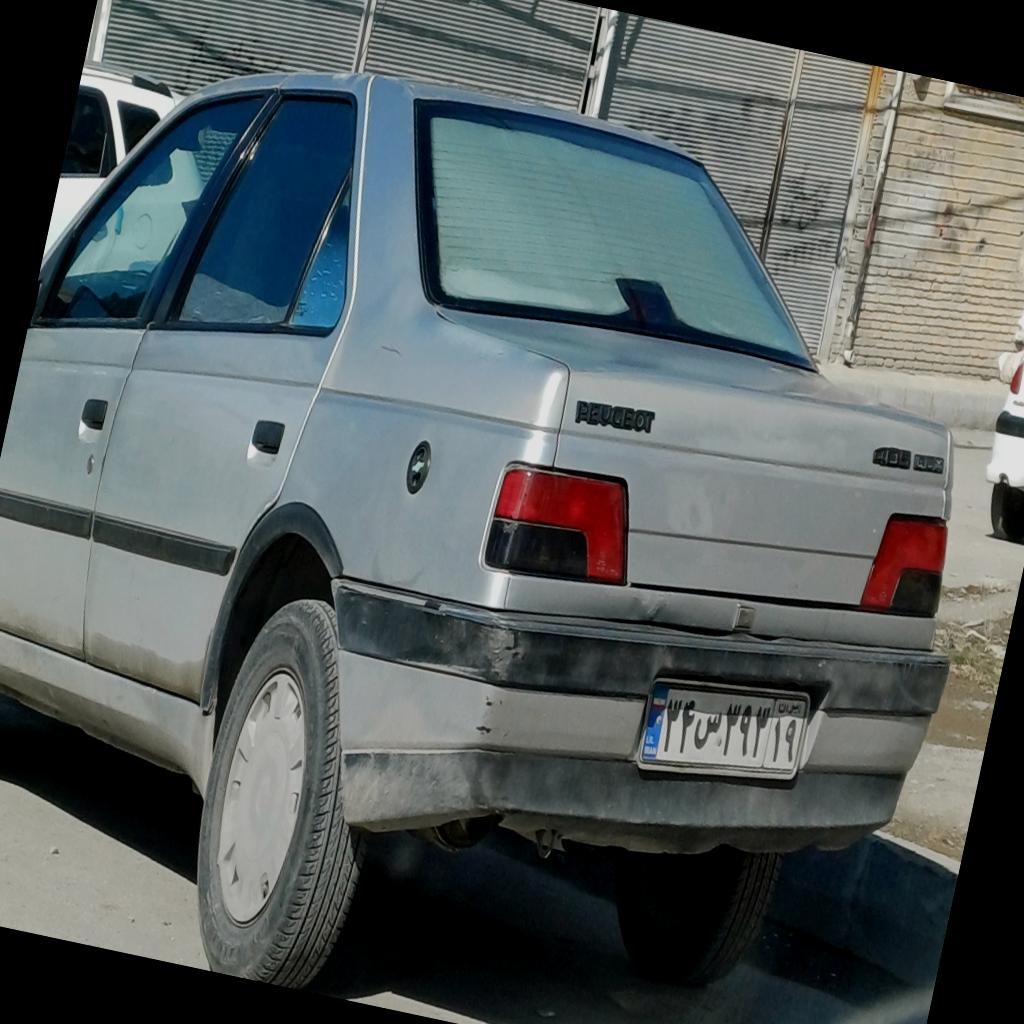Plates: (638, 667, 811, 793)
